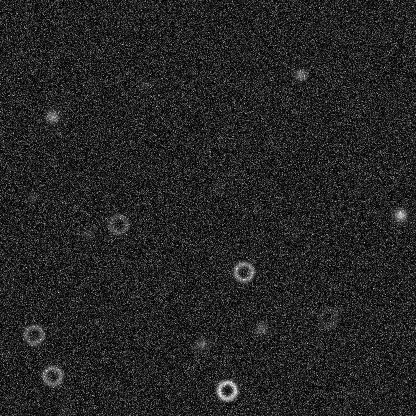Ring: (316, 305, 340, 329), (106, 212, 130, 236), (214, 378, 238, 402), (231, 259, 255, 283), (21, 322, 45, 346), (40, 363, 64, 387)
Spot: (253, 320, 269, 336), (392, 206, 408, 222), (44, 108, 60, 124), (193, 336, 209, 352), (136, 77, 152, 93), (211, 178, 227, 194), (79, 225, 95, 241), (292, 66, 308, 82), (24, 188, 40, 204)
